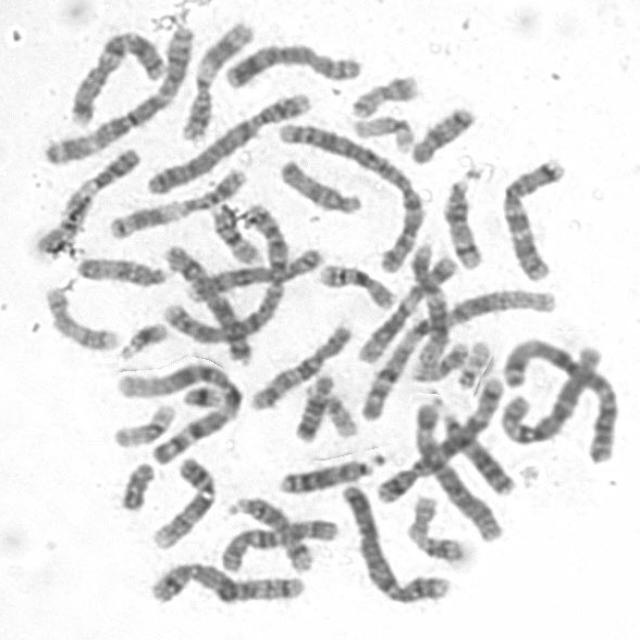A1: (352, 280, 562, 422), (110, 355, 246, 466)
A2: (274, 114, 426, 274), (158, 195, 295, 347)
A3: (35, 18, 197, 166), (495, 334, 612, 452)
B4: (137, 83, 316, 197), (335, 477, 451, 605)
B5: (370, 369, 506, 505), (141, 556, 307, 606)
C10: (243, 317, 355, 412), (211, 511, 341, 574)
C11: (101, 159, 252, 240), (174, 13, 256, 142)
C12: (350, 246, 460, 365), (403, 237, 453, 370)
C6: (411, 395, 508, 543), (493, 336, 608, 448)
C7: (62, 22, 171, 128), (493, 149, 569, 285)
C8: (180, 239, 326, 302), (218, 35, 364, 90)
C9: (52, 147, 147, 250), (144, 449, 220, 552)
D13: (433, 403, 518, 498), (271, 448, 386, 496)
D14: (220, 490, 317, 574), (437, 160, 488, 271)
D15: (272, 151, 366, 215), (68, 248, 171, 288)
E16: (312, 255, 398, 311), (204, 197, 264, 267)
E17: (37, 278, 122, 353), (400, 488, 467, 564)
E18: (404, 98, 478, 165), (288, 367, 336, 443)
F19: (105, 395, 178, 449), (345, 107, 417, 154)
F20: (344, 67, 422, 119), (405, 334, 472, 382)
G21: (111, 314, 171, 361), (177, 380, 226, 409)
G22: (308, 383, 360, 439), (450, 332, 494, 390)
X: (158, 236, 257, 365)
Y: (113, 453, 158, 513)
